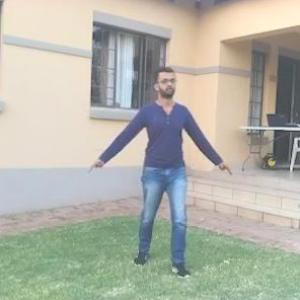land: (95, 74, 224, 262)
